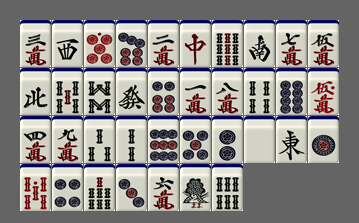0m: (308, 68, 339, 115)
0p: (84, 20, 115, 67)
0s: (20, 164, 51, 211)
1m: (180, 68, 211, 115)
1p: (308, 116, 339, 163)
1s: (180, 164, 211, 211)
1z: (276, 116, 307, 163)
2m: (148, 20, 179, 67)
2p: (212, 116, 243, 163)
2s: (116, 116, 147, 163)
2z: (244, 20, 275, 67)
3m: (20, 20, 51, 67)
3p: (116, 164, 147, 211)
3s: (84, 116, 115, 163)
3z: (52, 20, 83, 67)
4m: (20, 116, 51, 163)
4p: (52, 164, 83, 211)
4s: (244, 68, 275, 115)
4z: (20, 68, 51, 115)
5m: (308, 20, 339, 67)
5p: (180, 116, 211, 163)
5s: (52, 68, 83, 115)
5z: (244, 116, 275, 163)
6m: (148, 164, 179, 211)
6p: (148, 68, 179, 115)
6s: (212, 164, 243, 211)
6z: (116, 68, 147, 115)
7m: (276, 20, 307, 67)
7p: (116, 20, 147, 67)
7s: (84, 164, 115, 211)
7z: (180, 20, 211, 67)
8m: (212, 68, 243, 115)
8p: (276, 68, 307, 115)
8s: (84, 68, 115, 115)
9m: (52, 116, 83, 163)
9p: (148, 116, 179, 163)
9s: (212, 20, 243, 67)
